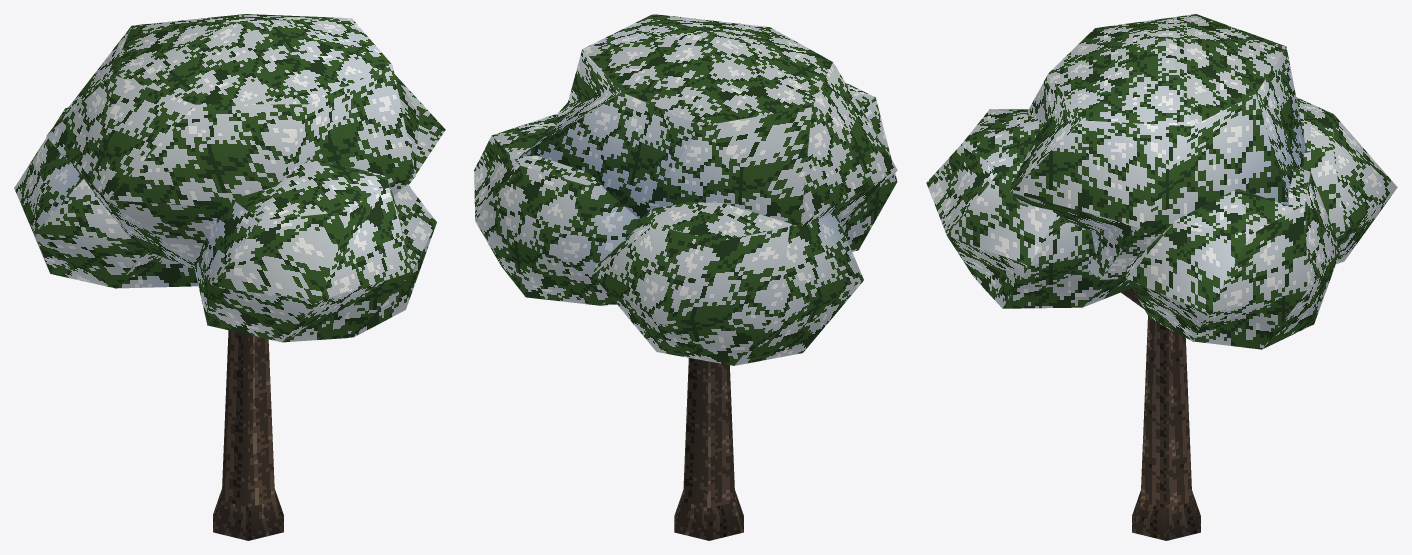
The model's file is mnat.oak.glb.
3 views of the same model, side by side, from view 1: azimuth 30°, elevation 25°; view 2: azimuth 150°, elevation 25°; view 3: azimuth 270°, elevation 25° (orthographic). The views are drawn at different scales.
Parts seen in each view (by area): view 1: kit_crown, kit_trunk; view 2: kit_crown, kit_trunk; view 3: kit_crown, kit_trunk.
Boxes of the visible parts, <box> form: kit_crown: <box>14,14,445,342</box>; kit_trunk: <box>213,330,283,540</box>; kit_crown: <box>474,14,897,365</box>; kit_trunk: <box>674,358,743,540</box>; kit_crown: <box>926,14,1397,349</box>; kit_trunk: <box>1121,288,1200,540</box>.
Bounding box in the file's own units: 5.85 × 6.93 × 6.08.
Materials: 2 (2 with a texture image).
